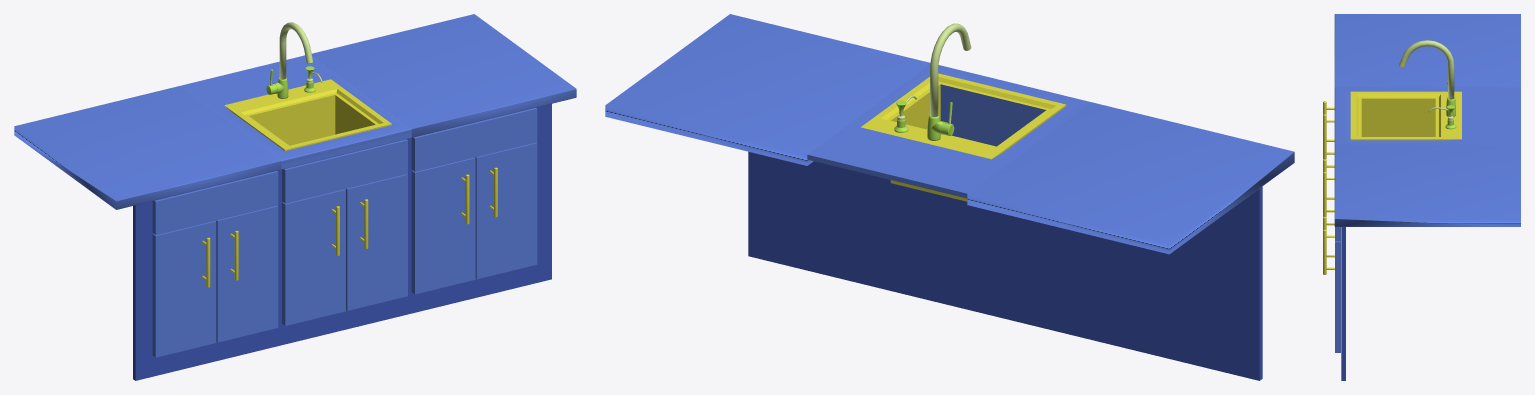
The model's file is Sink.fbx.
3 views of the same model, side by side, from view 1: azimuth 30°, elevation 25°; view 2: azimuth 150°, elevation 25°; view 3: azimuth 270°, elevation 25° (orthographic). The views are drawn at different scales.
Parts seen in each view (by area): view 1: Cube.005, Cube.003, Cube, Sink, Cylinder.002, Faucet; view 2: Cube, Cube.003, Sink, Faucet; view 3: Cube.003, Sink, Faucet, Cube, Cube.005, Cylinder.002, Cylinder.001, Soap.001.
Boxes of the visible parts, x1,y1,x2,y2 form: Cube.005: [152, 107, 537, 357]; Cube.003: [14, 14, 576, 209]; Cube: [133, 104, 551, 380]; Sink: [179, 55, 411, 169]; Cylinder.002: [206, 167, 497, 287]; Faucet: [273, 22, 313, 98]; Cube: [748, 151, 1262, 380]; Cube.003: [605, 14, 1294, 254]; Sink: [807, 65, 1091, 201]; Faucet: [927, 23, 971, 140]; Cube.003: [1334, 14, 1520, 226]; Sink: [1334, 87, 1520, 145]; Faucet: [1399, 40, 1455, 116]; Cube: [1341, 227, 1345, 380]; Cube.005: [1335, 227, 1340, 352]; Cylinder.002: [1323, 101, 1326, 274]; Cylinder.001: [1326, 107, 1334, 269]; Soap.001: [1428, 105, 1456, 129].
Size of the model in its own units: 1489 by 839 by 608.
